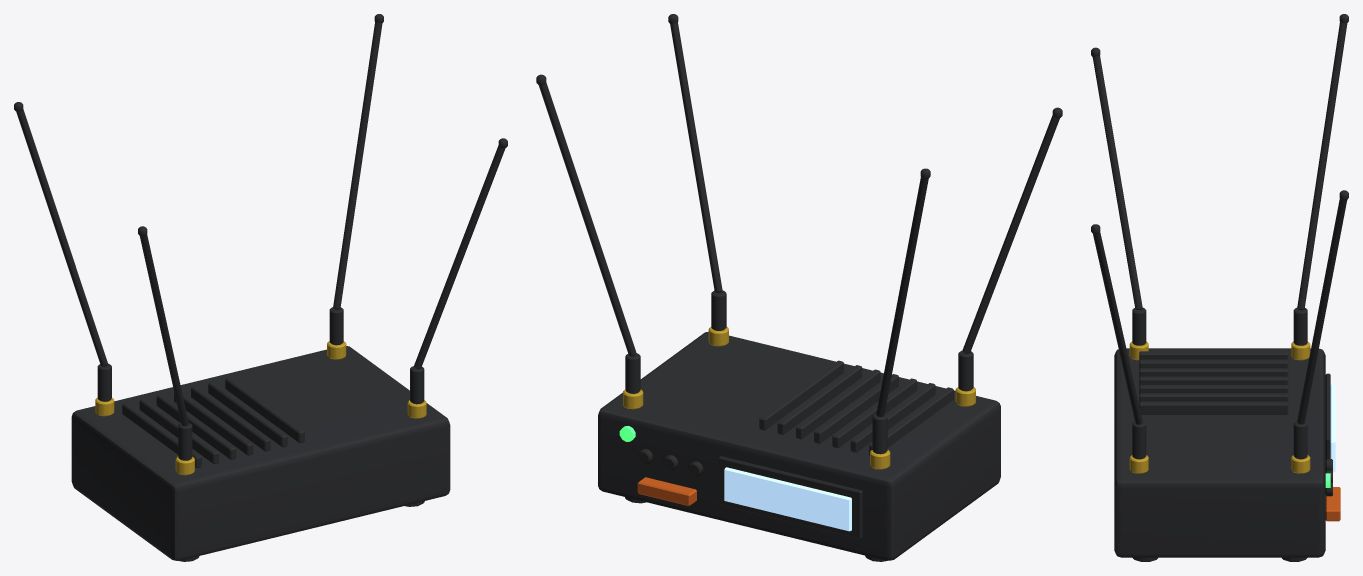
Rendered from prop_deploy_ecm.glb.
3 views of the same model, side by side, from view 1: azimuth 30°, elevation 25°; view 2: azimuth 150°, elevation 25°; view 3: azimuth 270°, elevation 25° (orthographic). The views are drawn at different scales.
Parts seen in each view (by area): view 1: Body; view 2: Body; view 3: Body.
Boxes of the visible parts, left/top/right/bottom form: Body: left=14, top=14, right=507, bottom=561; Body: left=536, top=14, right=1062, bottom=561; Body: left=1091, top=14, right=1348, bottom=561.
Size of the model in its own units: 0.3437 by 0.3537 by 0.2075.
